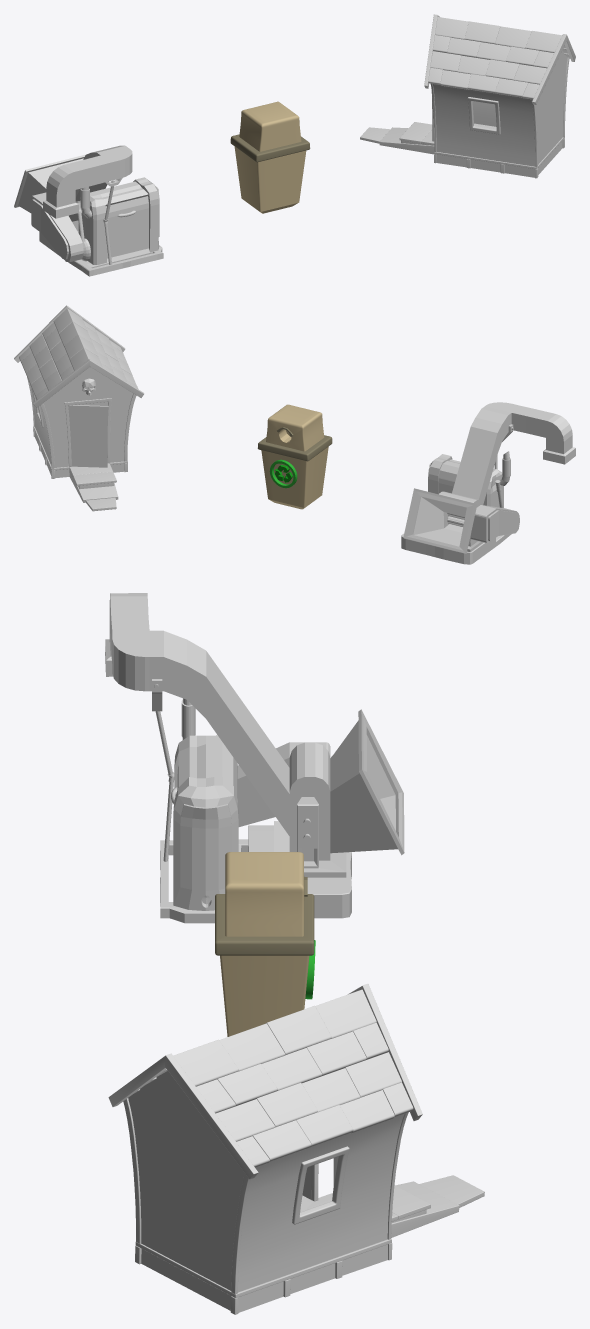
File: Displosals.fbx
The picture shows the model from 3 angles, top to bottom: view 1: azimuth 30°, elevation 25°; view 2: azimuth 150°, elevation 25°; view 3: azimuth 270°, elevation 25°; orthographic projection. The views are drawn at different scales.
Visible parts, largest first — view 1: Dog House, WoodChipperTest, Cube; view 2: Dog House, WoodChipperTest, Cube; view 3: Dog House, WoodChipperTest, Cube.
Part boxes in pixels (x1=…): Dog House: x1=360, y1=14, x2=575, y2=178; WoodChipperTest: x1=14, y1=145, x2=163, y2=276; Cube: x1=230, y1=101, x2=310, y2=213; Dog House: x1=14, y1=305, x2=144, y2=511; WoodChipperTest: x1=401, y1=402, x2=575, y2=564; Cube: x1=257, y1=404, x2=332, y2=509; Dog House: x1=108, y1=984, x2=484, y2=1314; WoodChipperTest: x1=105, y1=593, x2=404, y2=923; Cube: x1=215, y1=852, x2=315, y2=1036.
Bounding box in the file's own units: 925 × 206 × 289.
